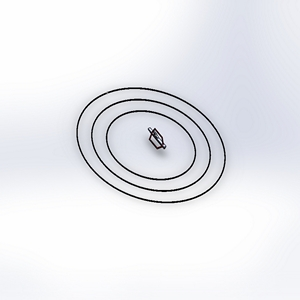circle: (59, 84, 230, 211)
submarine: (140, 122, 173, 160)
